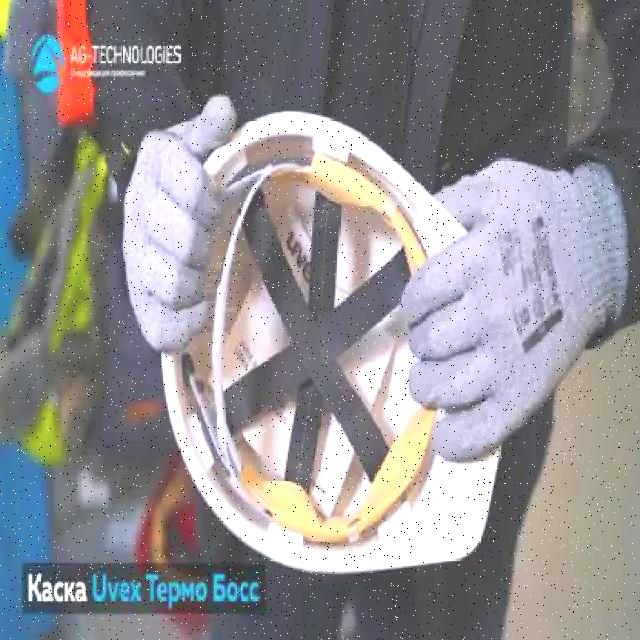Gloves: (401, 157, 627, 465), (120, 92, 240, 354)
Helmet: (161, 110, 510, 576)
